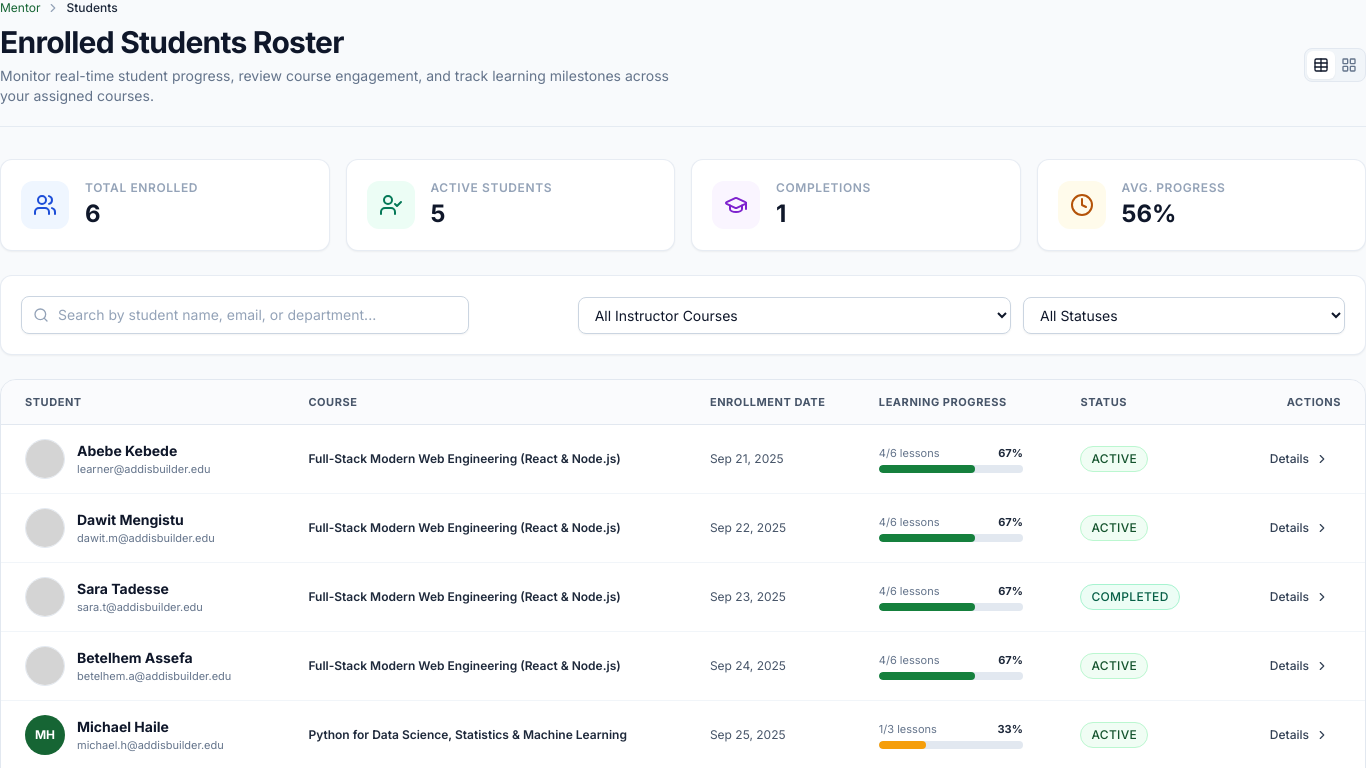
it: Instructor Student List & Progress Monitoring › opens student details modal with progress and status controls
expect the text "Abebe Kebede" is shown: met, box [77,442,177,459]
Click details button
Click the button "Details" in the row of "Abebe Kebede": {"x": 1299, "y": 459} [1258,445,1341,473]
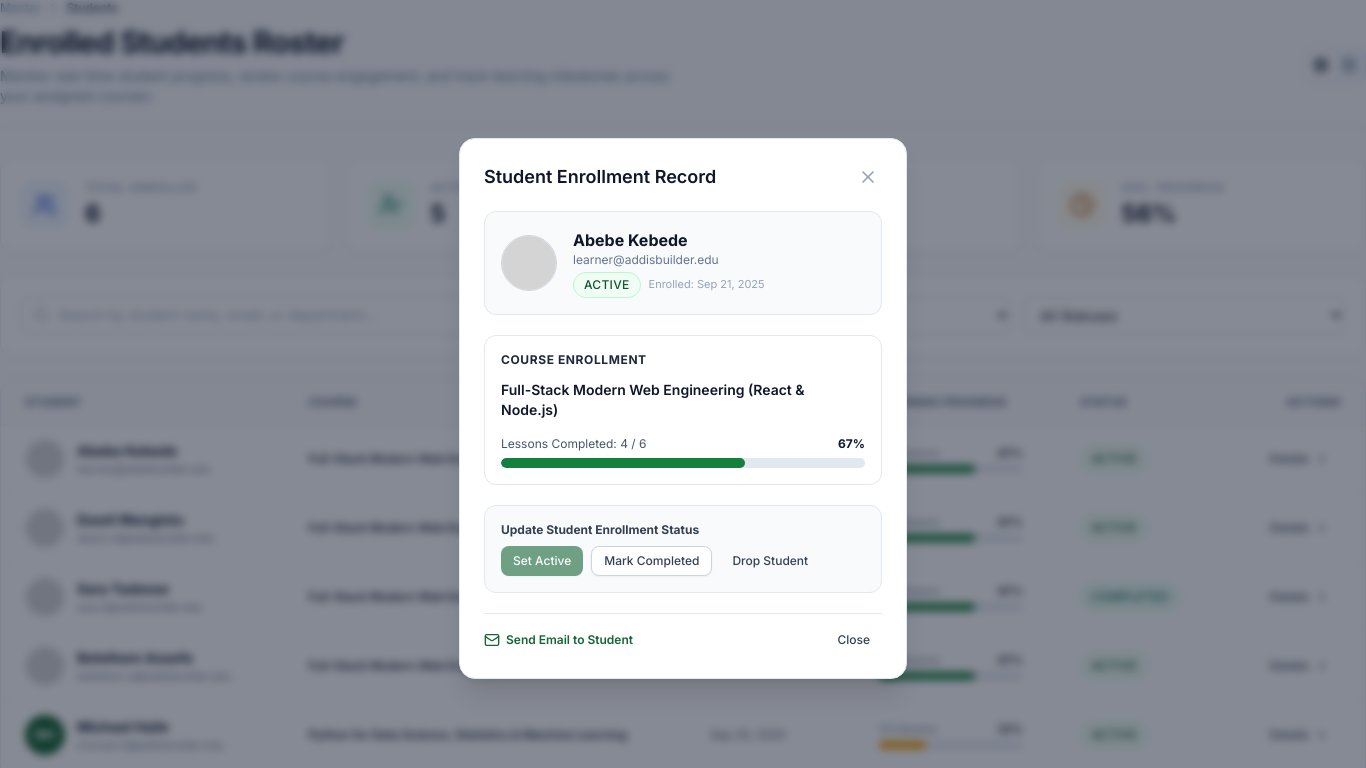
expect the heading "Student Enrollment Record" is shown: met, box [484,162,716,190]
expect the text "Update Student Enrollment Status" is shown: met, box [501,522,699,536]
expect the link "Send Email to Student" is shown: met, box [484,632,633,648]
